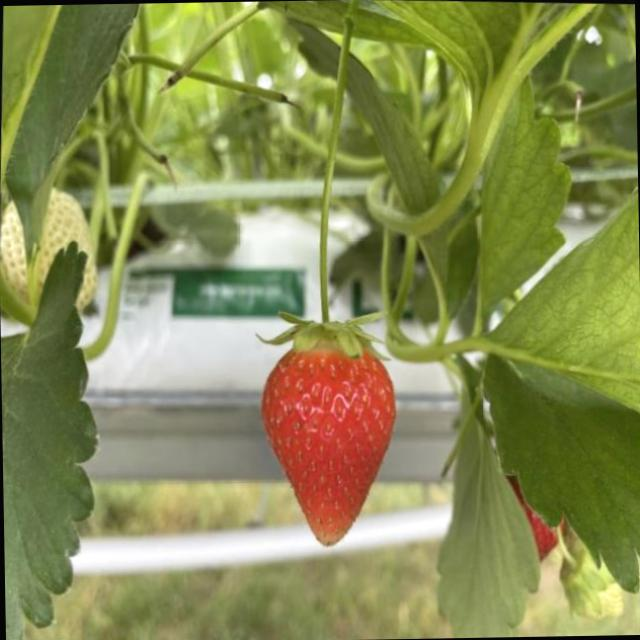stem: (265, 1, 378, 354)
strawberryR: (261, 349, 394, 544)
